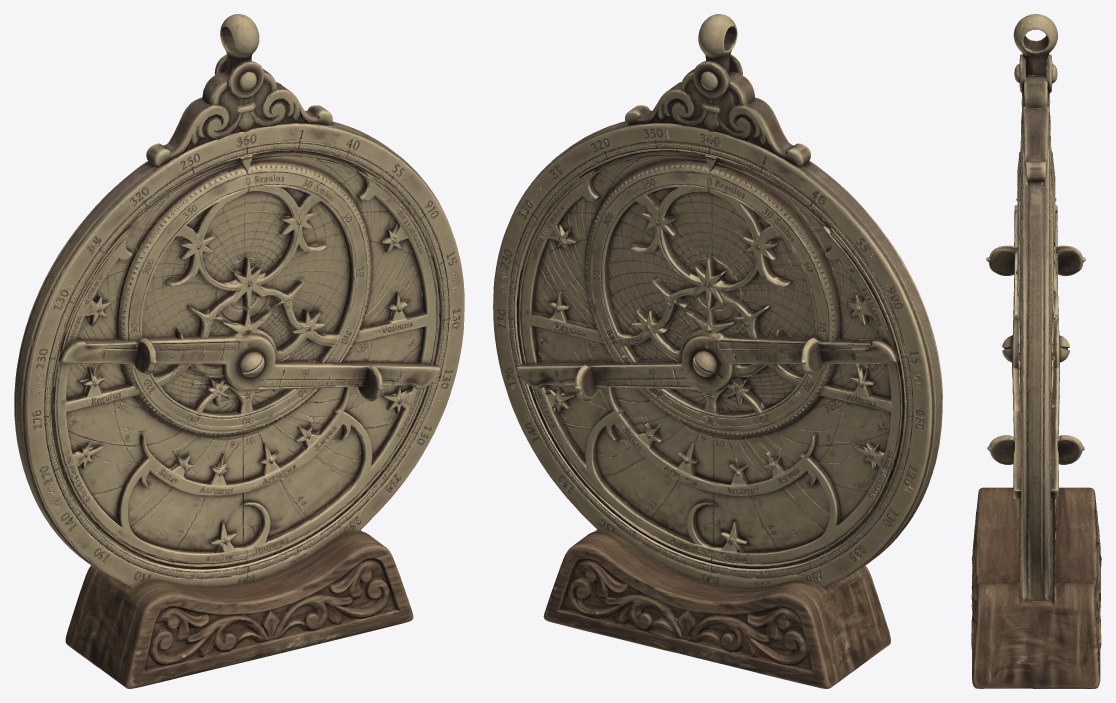
The model's file is astrolabe.glb.
3 views of the same model, side by side, from view 1: azimuth 30°, elevation 25°; view 2: azimuth 150°, elevation 25°; view 3: azimuth 270°, elevation 25° (orthographic).
Parts seen in each view (by area): view 1: Mesh_0; view 2: Mesh_0; view 3: Mesh_0.
Boxes of the visible parts, x1=… form: Mesh_0: x1=14, y1=14, x2=464, y2=688; Mesh_0: x1=493, y1=14, x2=942, y2=688; Mesh_0: x1=971, y1=14, x2=1101, y2=688.
Size of the model in its own units: 1.42 by 1.9 by 0.3703.
1 material, 1 textured.
